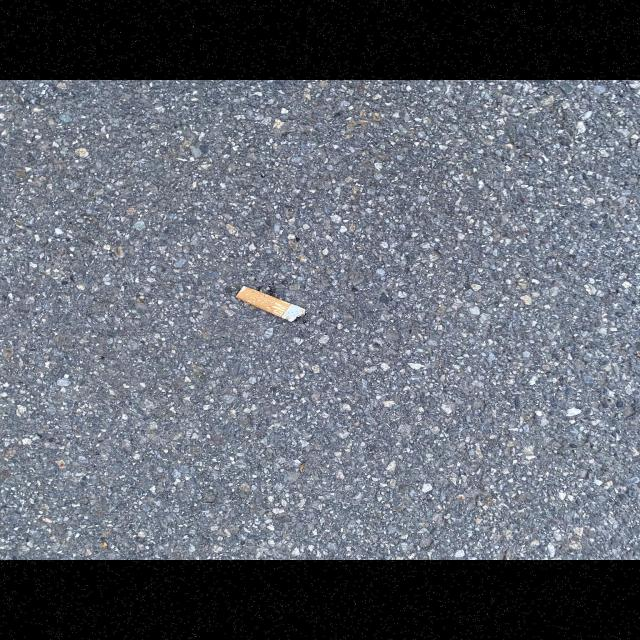other waste: (235, 286, 307, 323)
